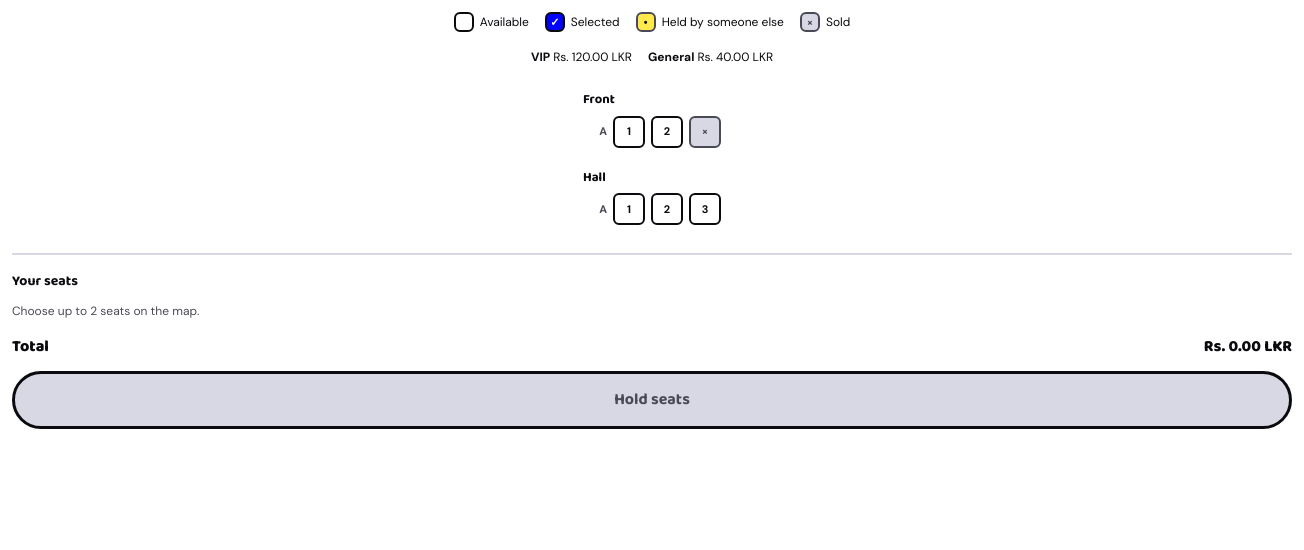
SeatSelection › stops at the per-customer limit and says so
Click the button named "Front row A seat 1": (629, 132) [613,116,645,148]
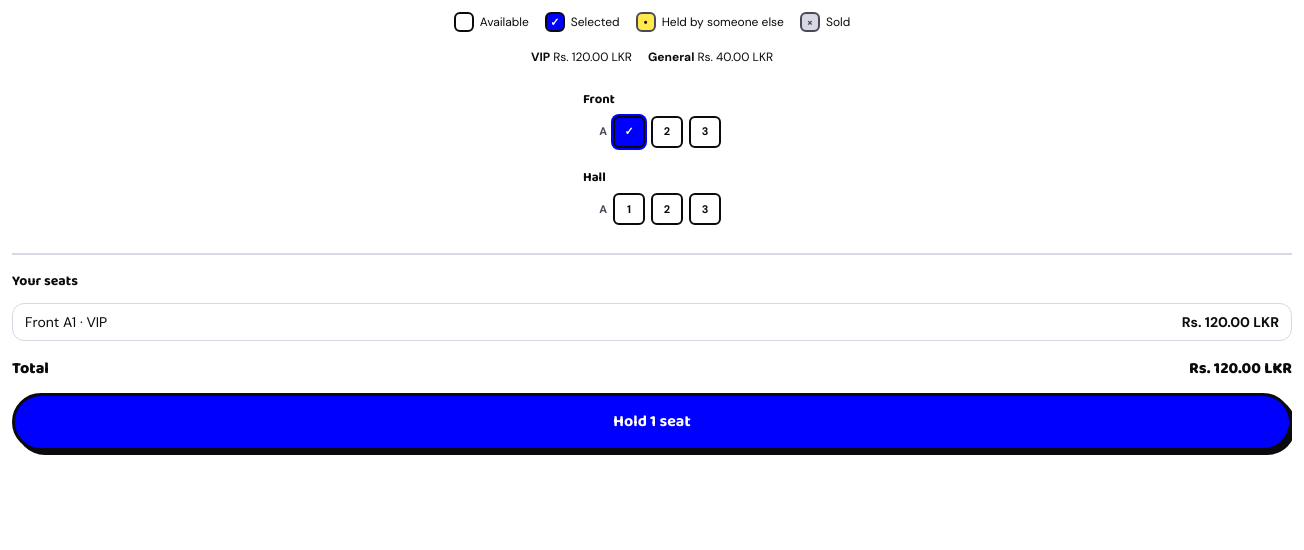
Click the button named "Front row A seat 2": (667, 132) [651,116,683,148]
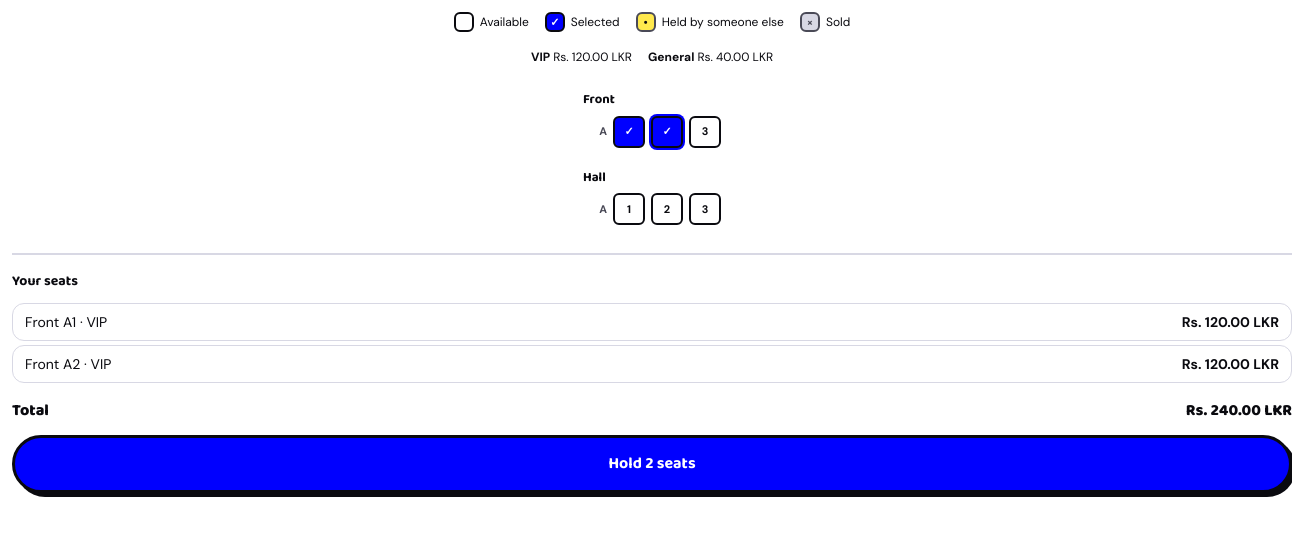
Click the button named "Hall row A seat 1": (629, 209) [613,193,645,225]
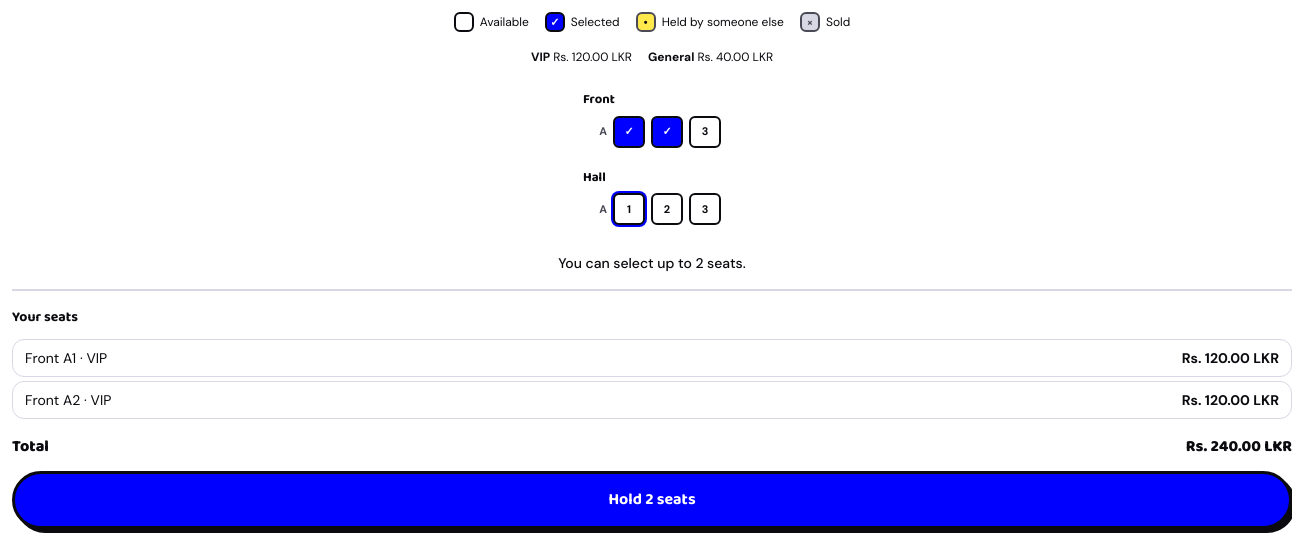
Expected: the text "You can select up to 2 seats." is shown, [558,254,746,272]
